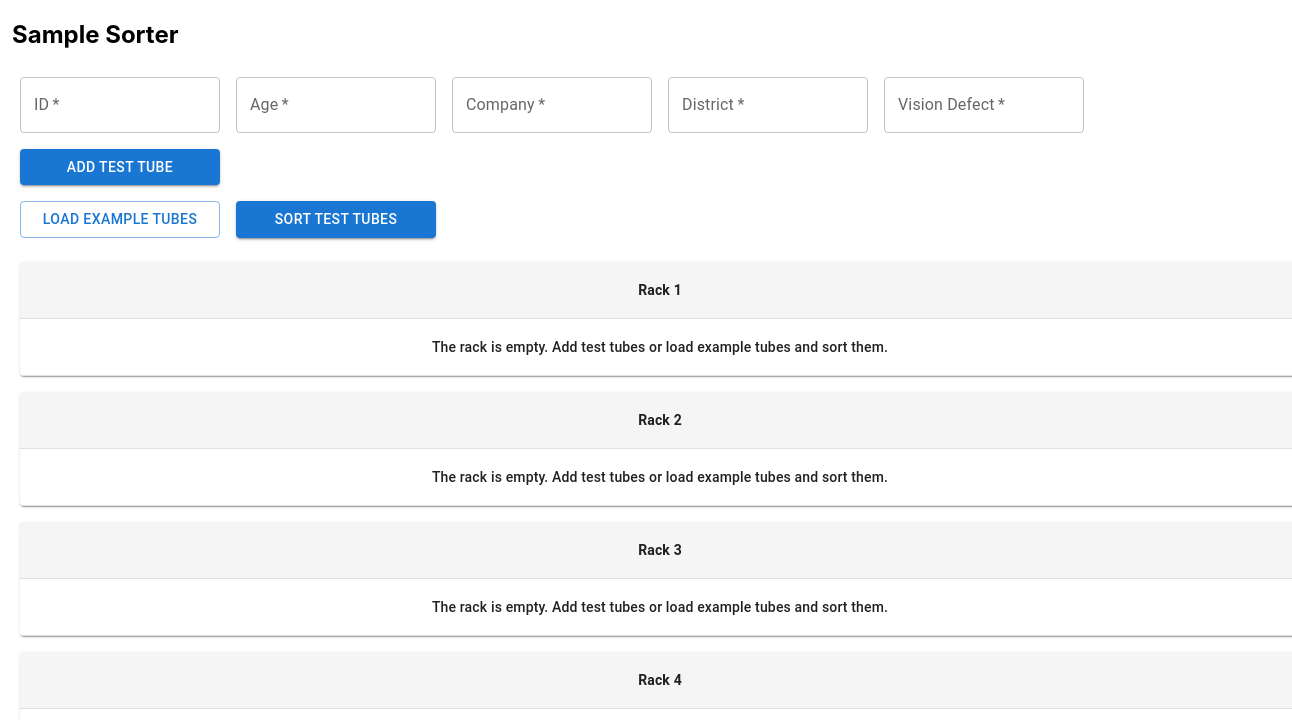
SampleSorter › renders form and allows adding test tubes
The width and height of the screenshot is (1292, 720).
# Simulate adding a test tube
In the field labelled "ID *": point(120, 105) [20, 77, 220, 133], type "tube1"
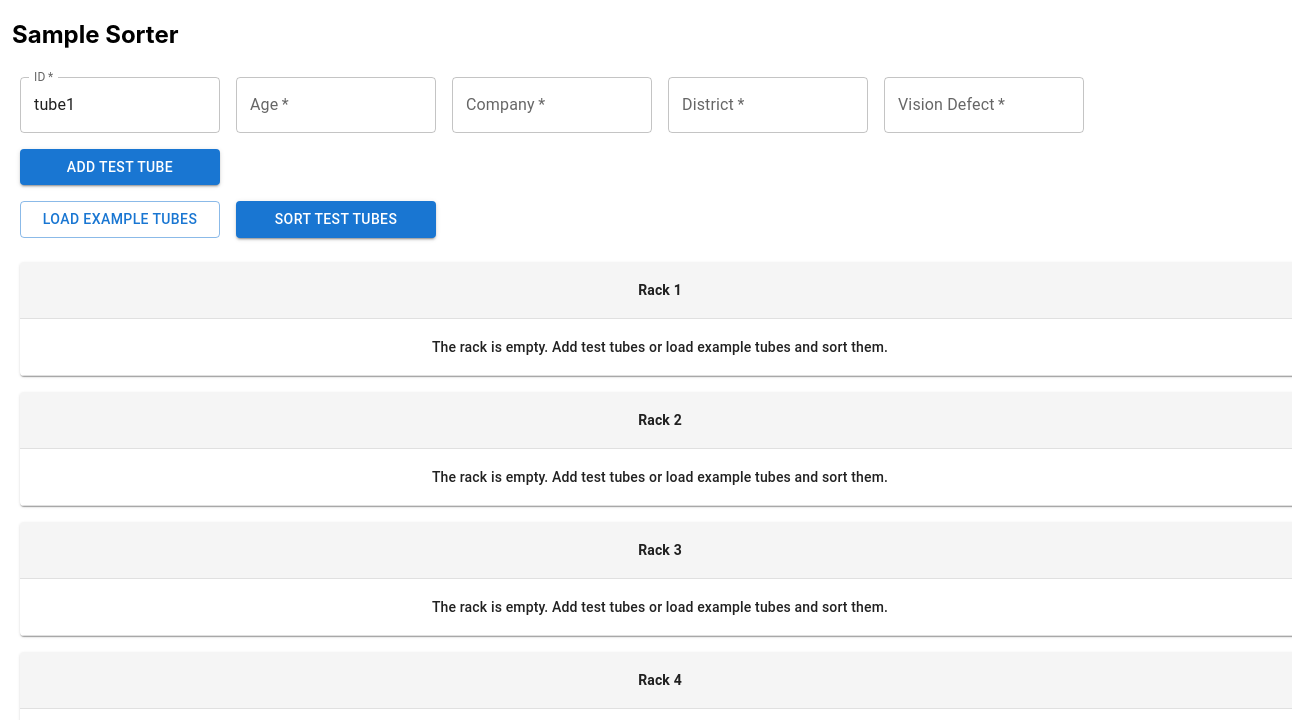
In the number field labelled "Age *": point(336, 105) [236, 77, 436, 133], type "25"
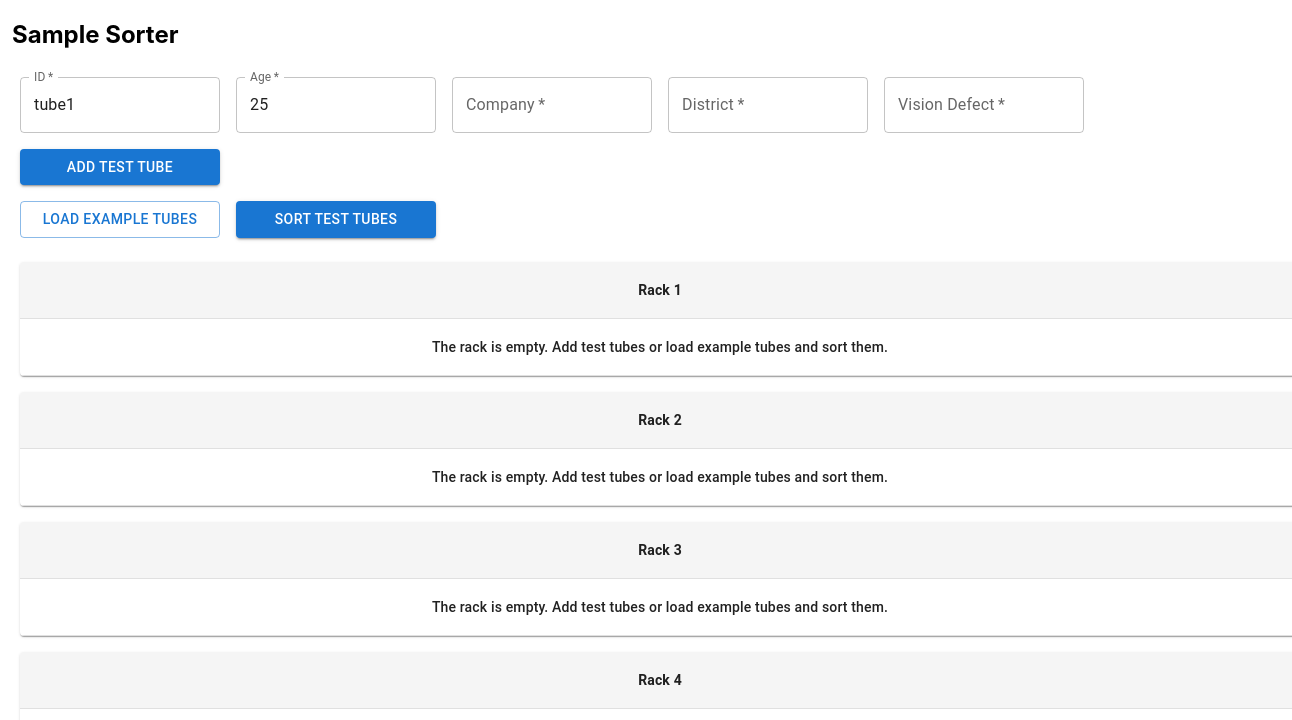
In the field labelled "Company *": point(552, 105) [452, 77, 652, 133], type "CompanyA"
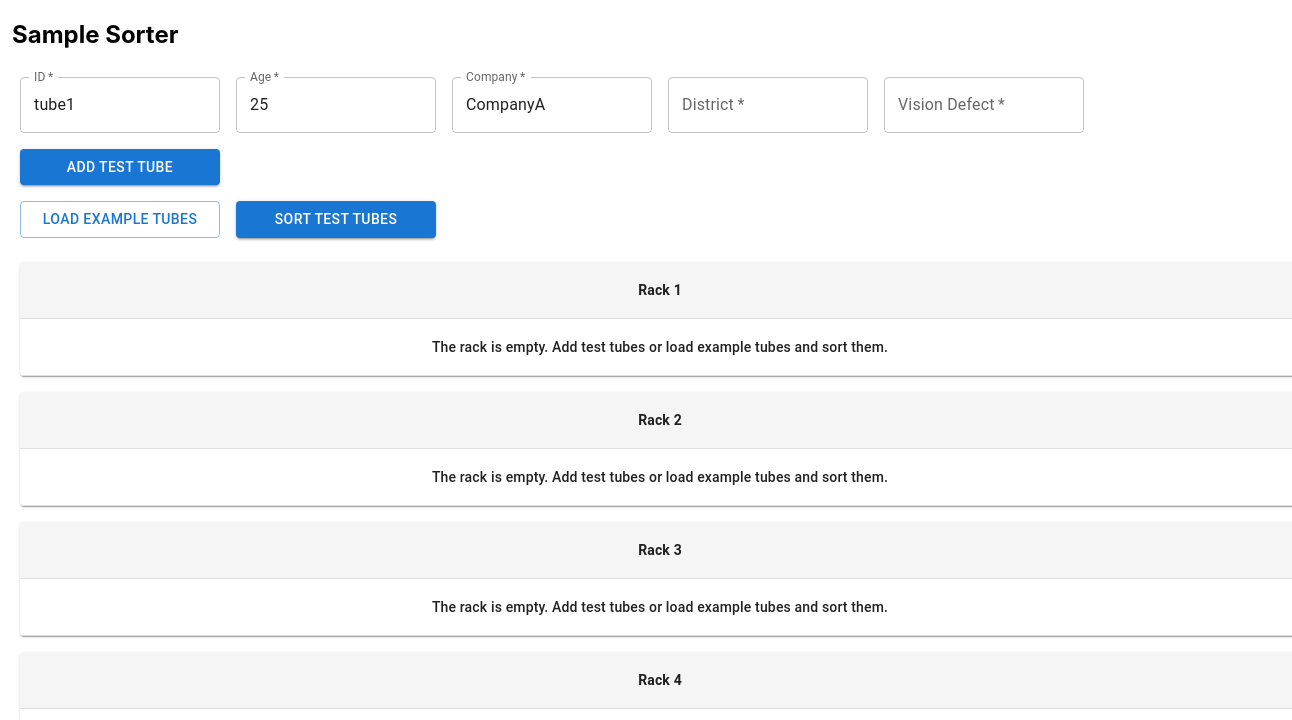
In the field labelled "District *": point(768, 105) [668, 77, 868, 133], type "District1"
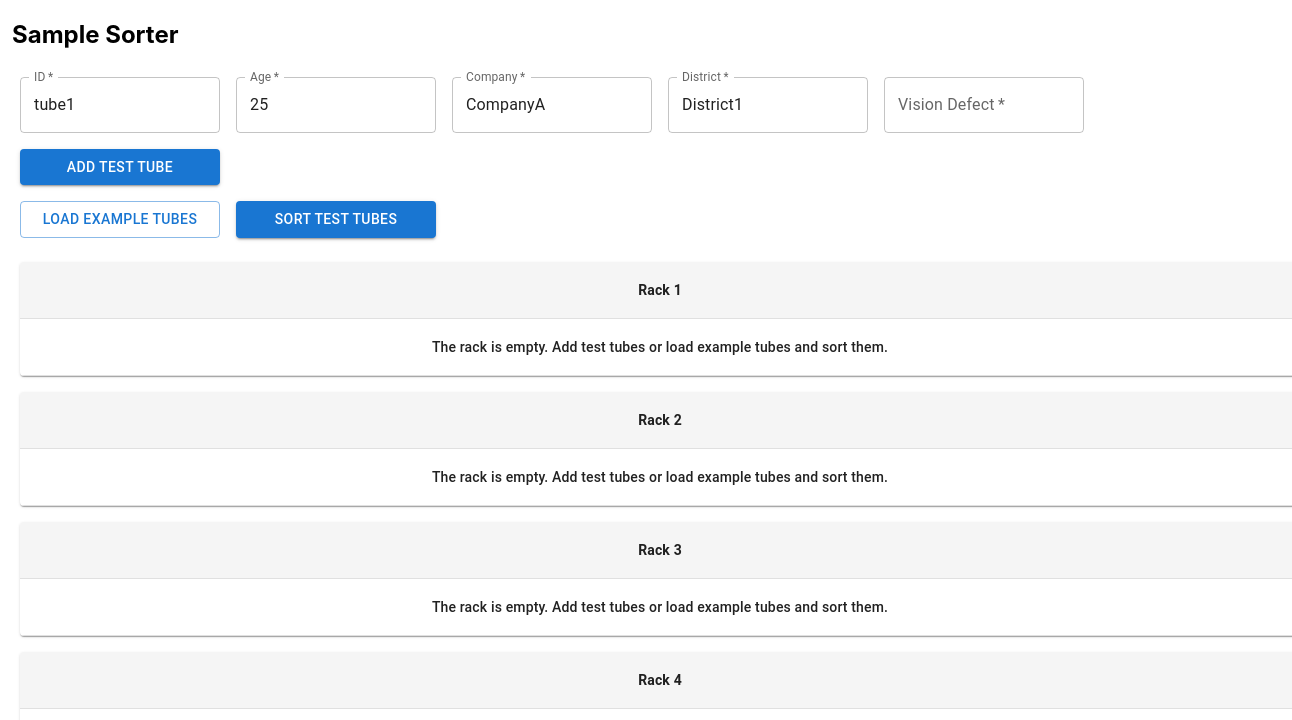
In the field labelled "Vision Defect *": point(984, 105) [884, 77, 1084, 133], type "Red"
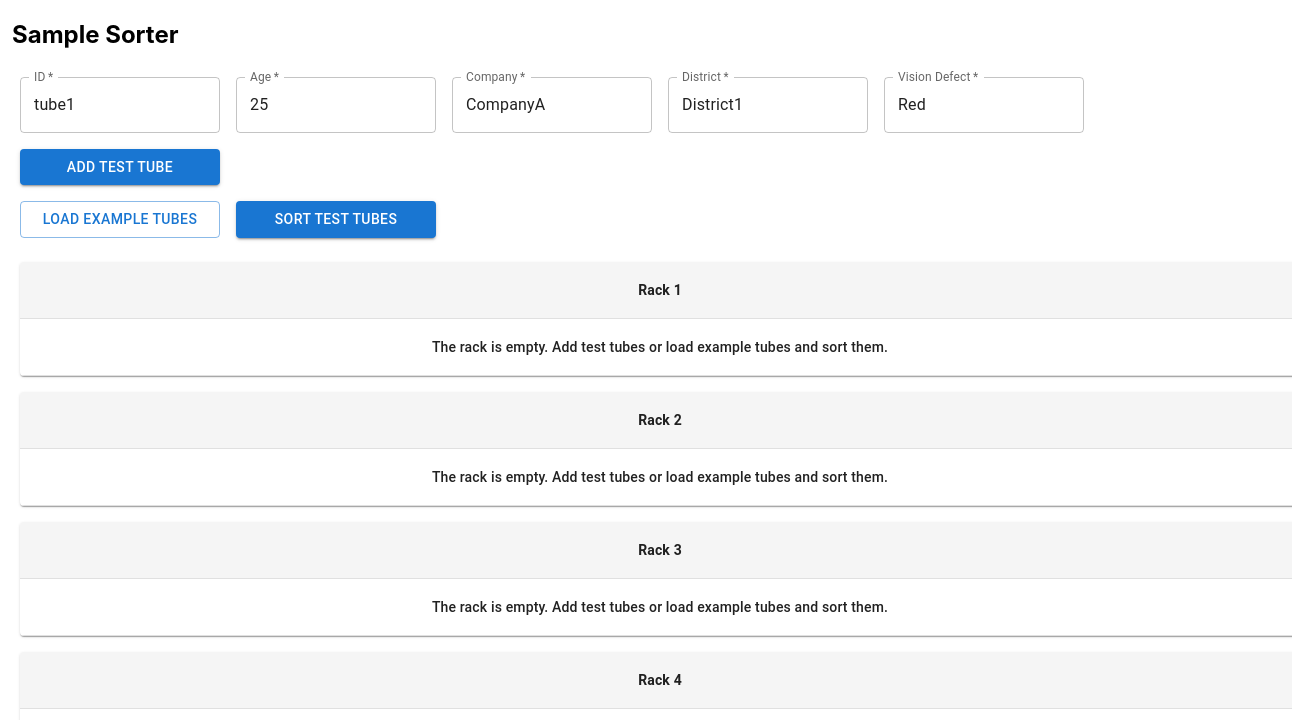
Click the button "Add Test Tube": point(120, 167) [20, 149, 220, 185]
(page scrolled)
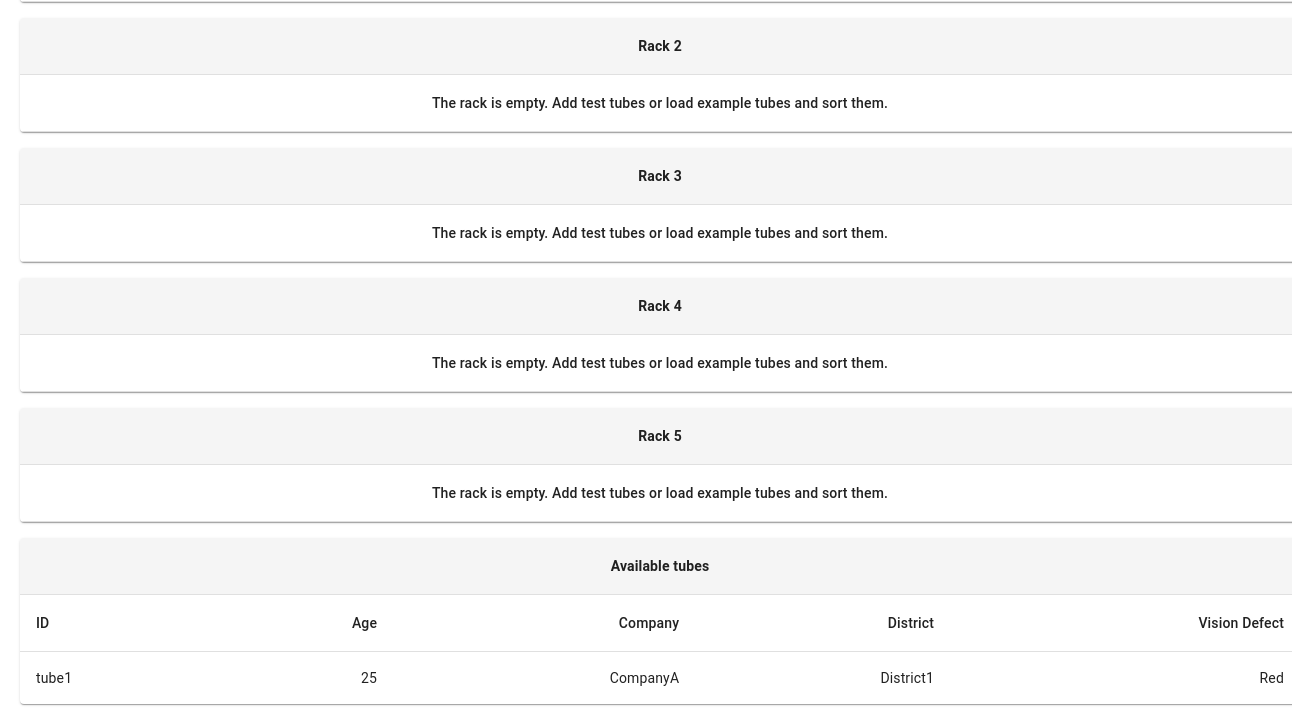
Now the text "tube1" is shown, box [20, 651, 223, 704]
Now the text "25" is shown, box [223, 651, 393, 704]
Now the text "CompanyA" is shown, box [393, 651, 695, 704]
